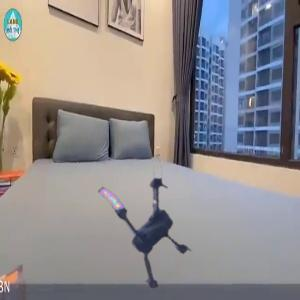drone: (76, 155, 212, 291)
